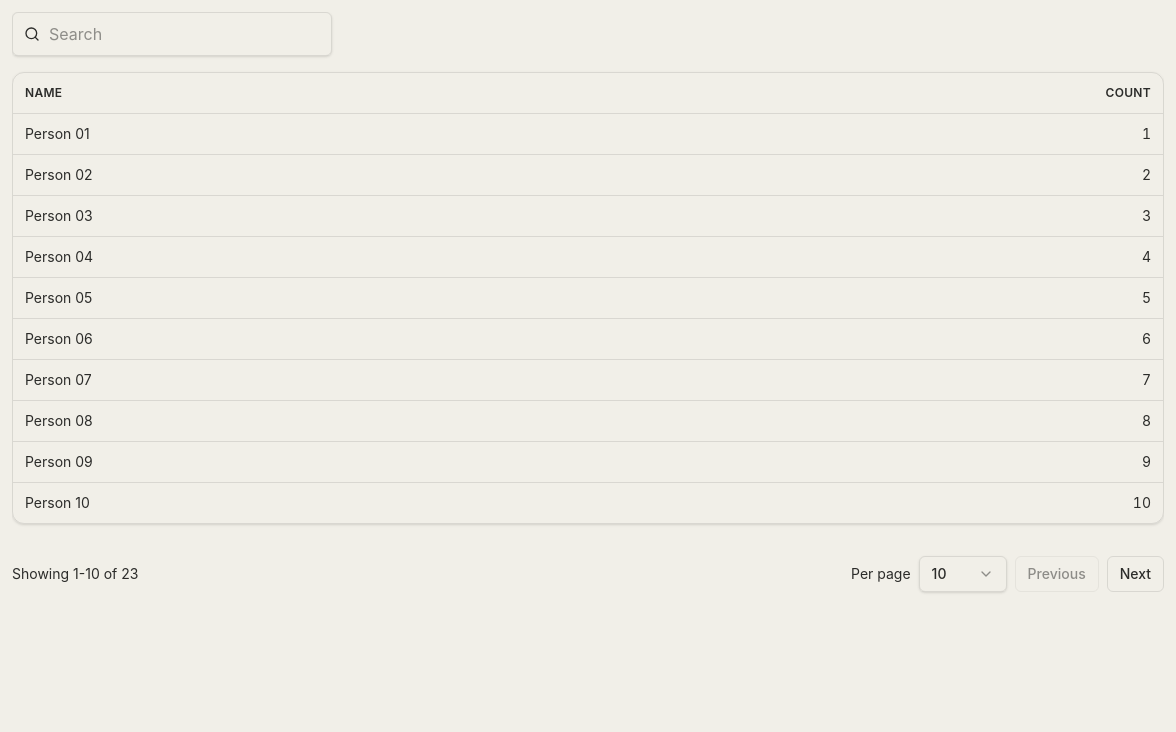
Test: DataTable pagination › resets to page 1 when the query changes
Click the button "Next" at point(1135, 574), box [1107,556,1164,592]
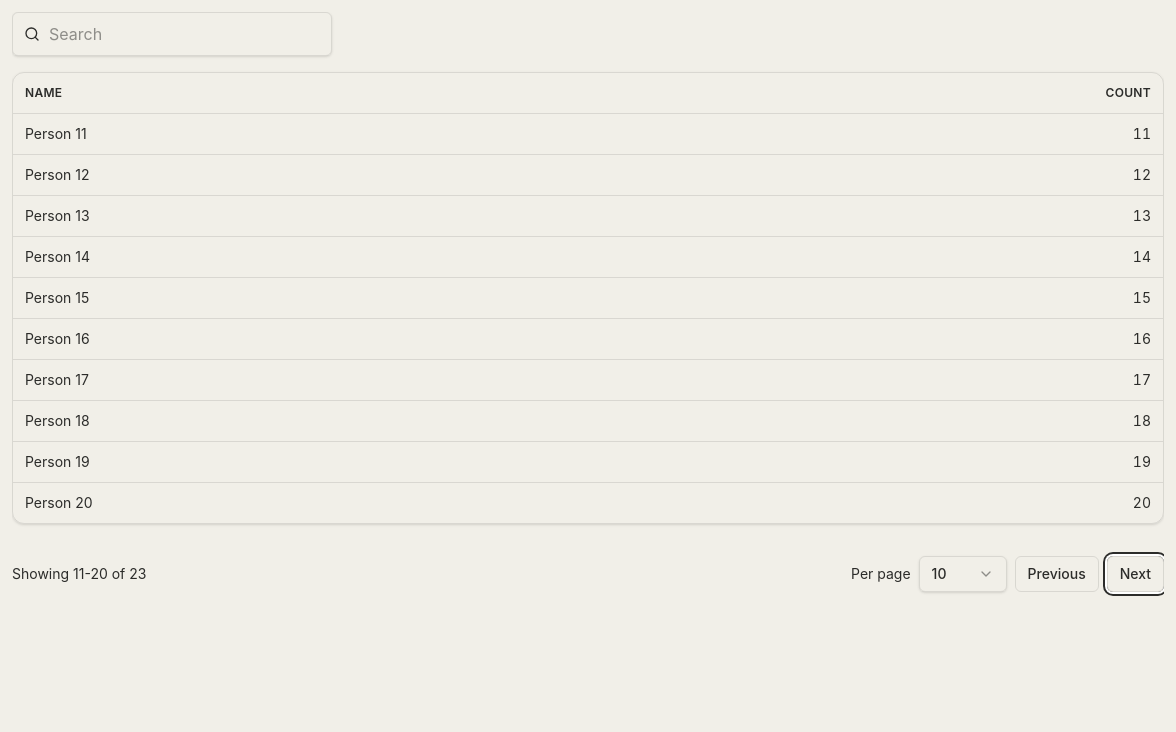
Check: the text "Showing 11-20 of 23" is shown, box [12,564,146,584]
Type "Person" into the search field at point(172, 34), box [12,12,332,56]
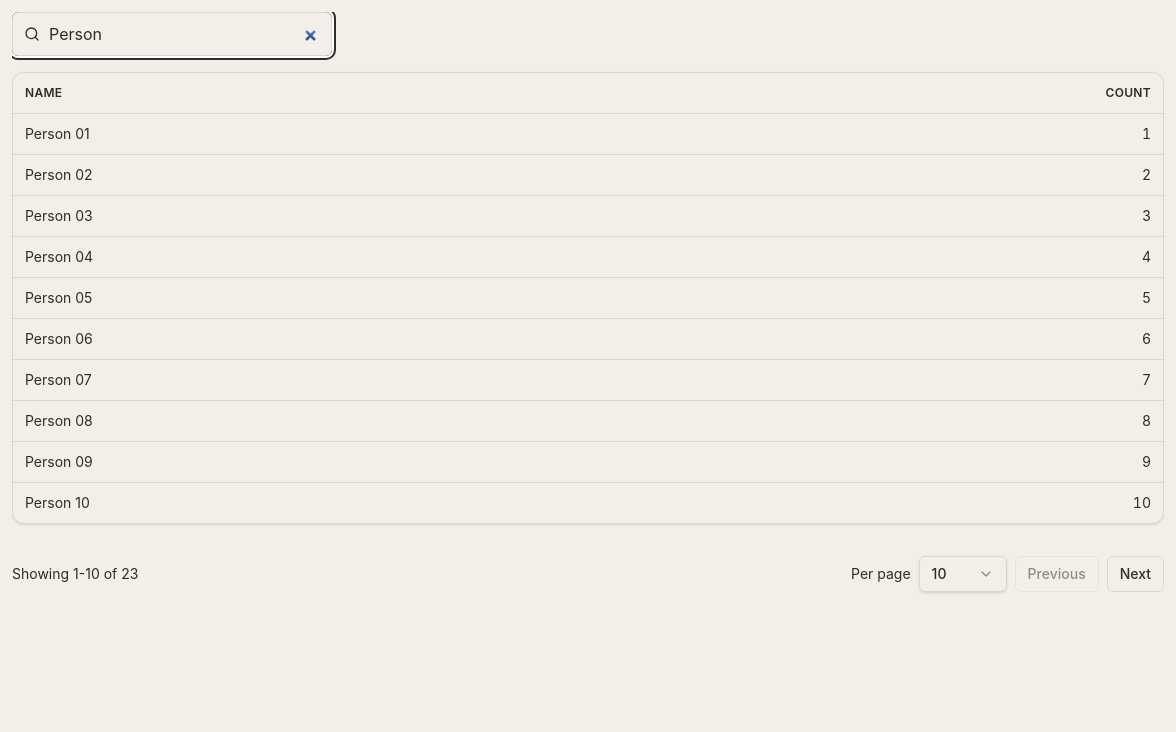
Check: the text "Showing 1-10 of 23" is shown, box [12,564,138,584]
